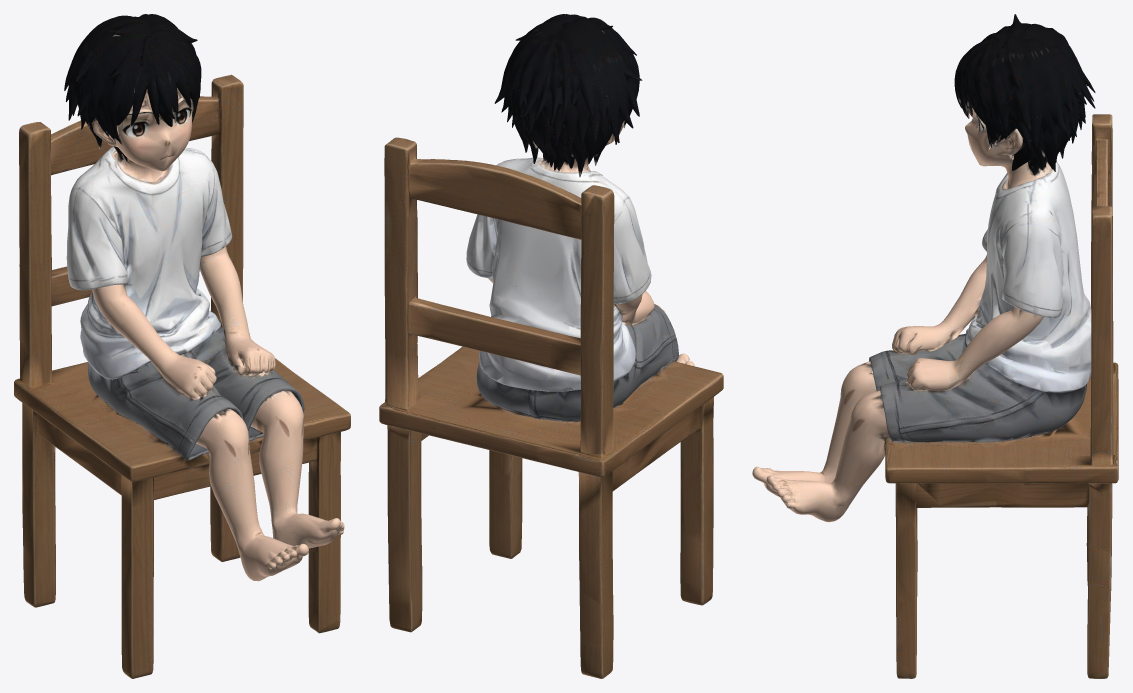
File: chair.glb
The picture shows the model from 3 angles, left to right: view 1: azimuth 30°, elevation 25°; view 2: azimuth 150°, elevation 25°; view 3: azimuth 270°, elevation 25°; orthographic projection. The views are drawn at different scales.
Size of the model in its own units: 0.7387 by 1.9 by 1.08.
1 material, 1 textured.
